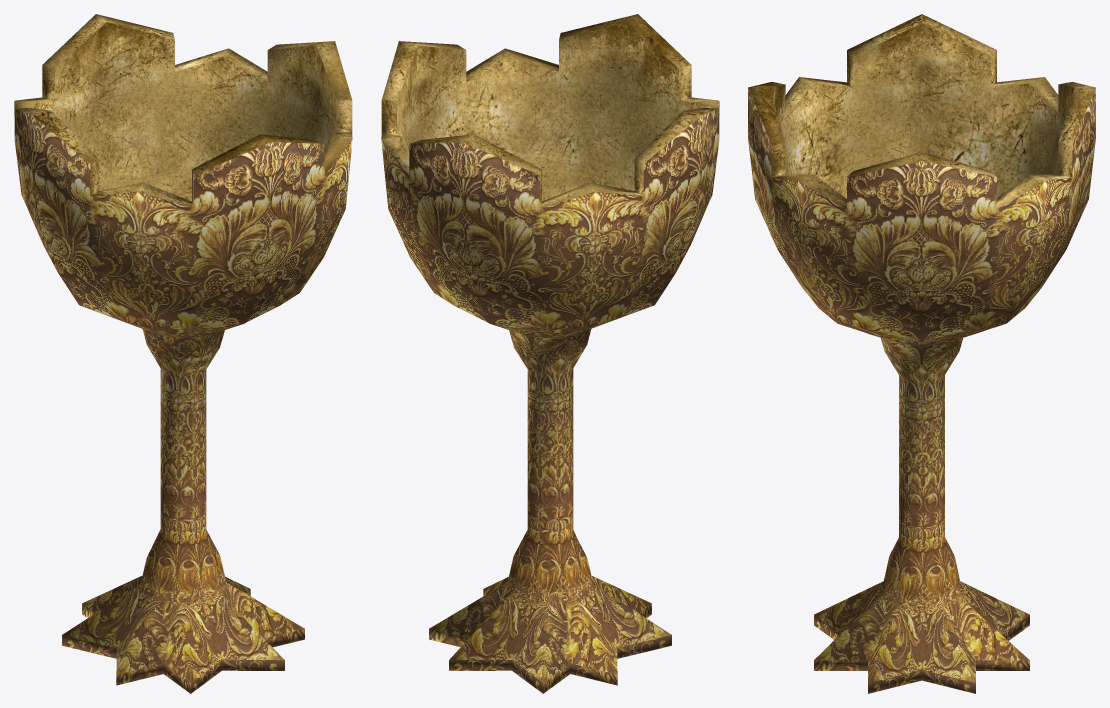
The model's file is Chalice.fbx.
3 views of the same model, side by side, from view 1: azimuth 30°, elevation 25°; view 2: azimuth 150°, elevation 25°; view 3: azimuth 270°, elevation 25° (orthographic).
Visible parts, largest first — view 1: Chalice; view 2: Chalice; view 3: Chalice.
Boxes of the visible parts, left/top/right/bottom form: Chalice: left=14, top=14, right=352, bottom=693; Chalice: left=381, top=14, right=719, bottom=693; Chalice: left=748, top=14, right=1095, bottom=693.
Size of the model in its own units: 15.68 by 27.89 by 15.68.
